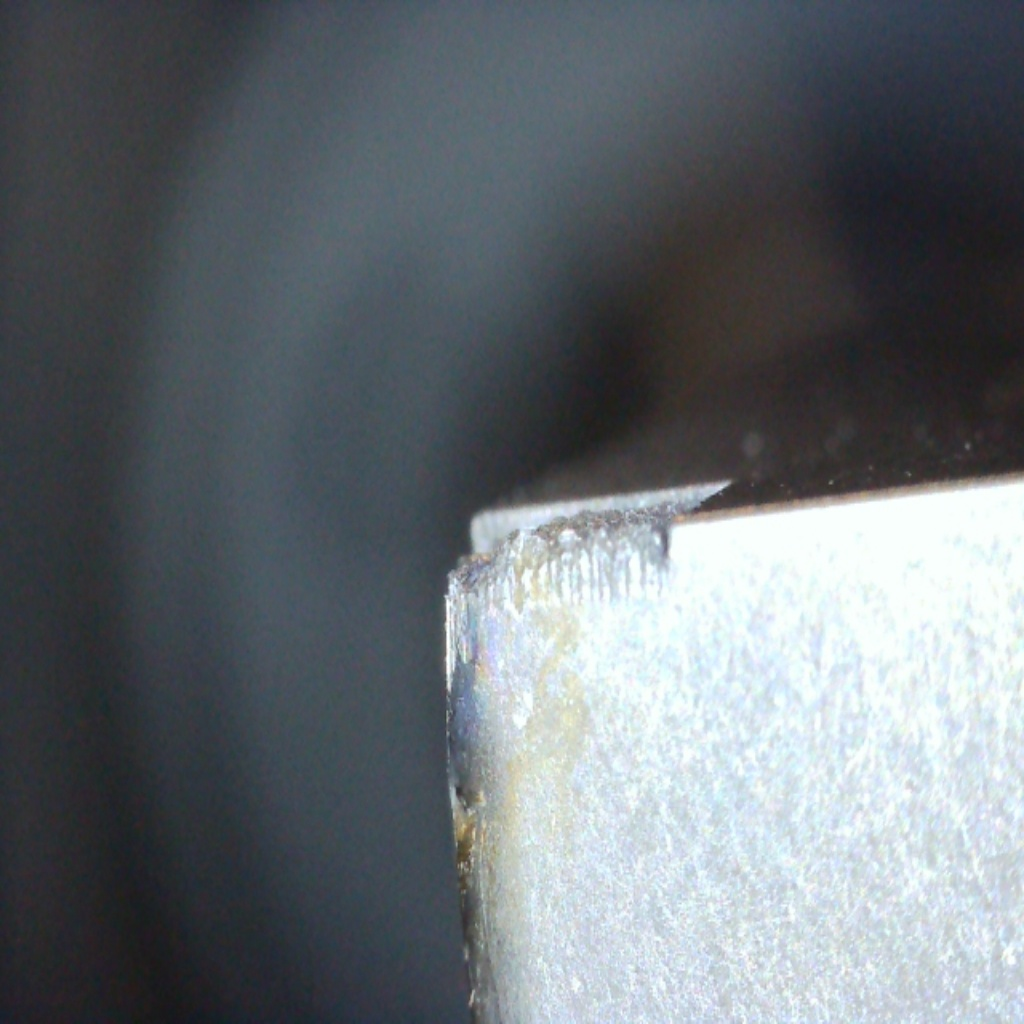flank_wear: (437, 554, 677, 628)
